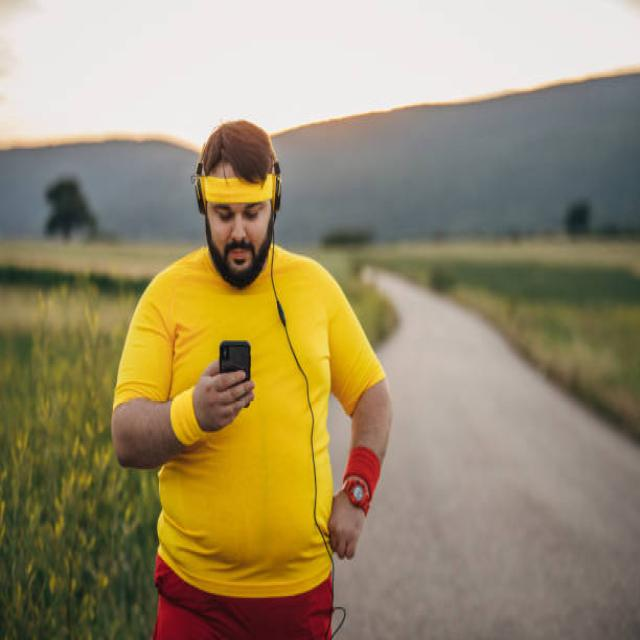Headphone: (194, 119, 283, 217)
